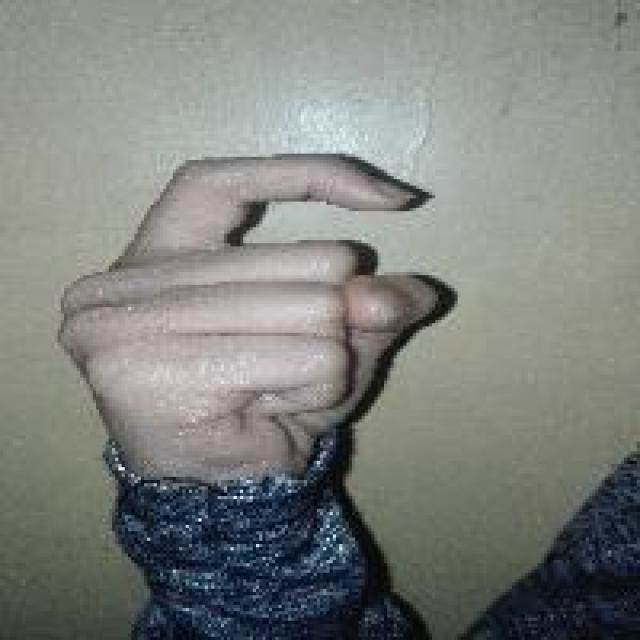X: (50, 146, 440, 478)
